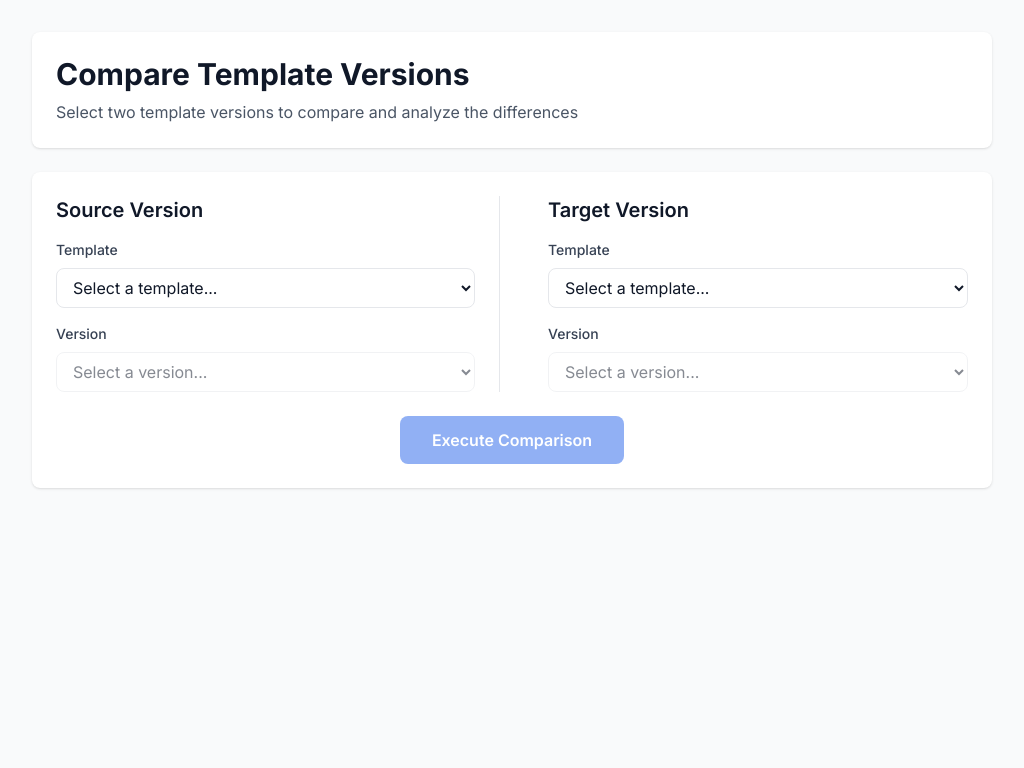
Test: CreateComparisonPage › Comparison Execution › should display error message when comparison fails
The image size is (1024, 768).
Step 1. Select "Template A" in the dropdown named "Select source template" → (266, 288), box [56,268,475,308]
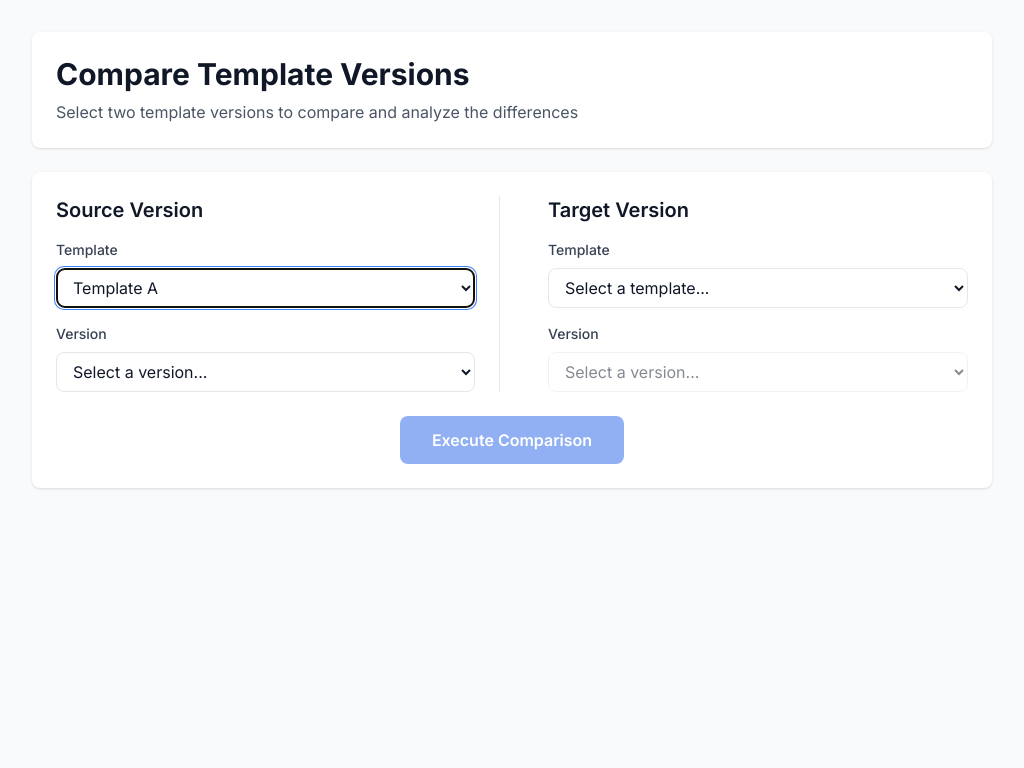
Step 2. Select "Template A" in the dropdown named "Select target template" → (758, 288), box [548,268,968,308]
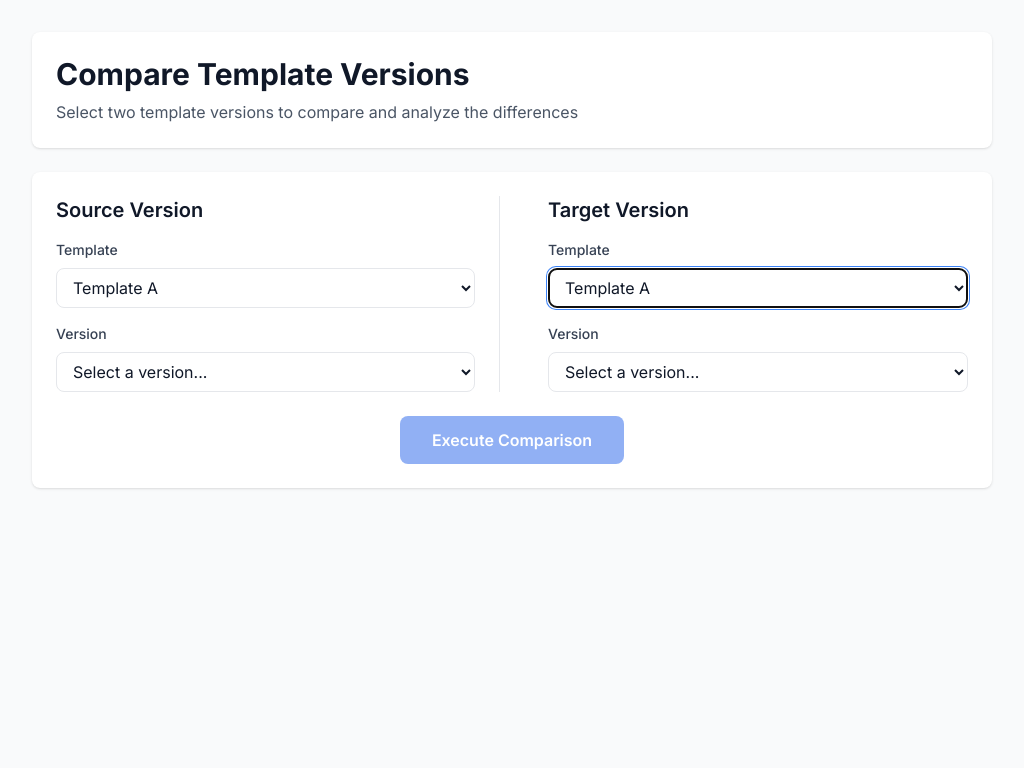
Expected: the dropdown named "Select source version" is enabled
Step 3. Select "2024-Q1 (Current)" in the dropdown named "Select source version" → (266, 372), box [56,352,475,392]
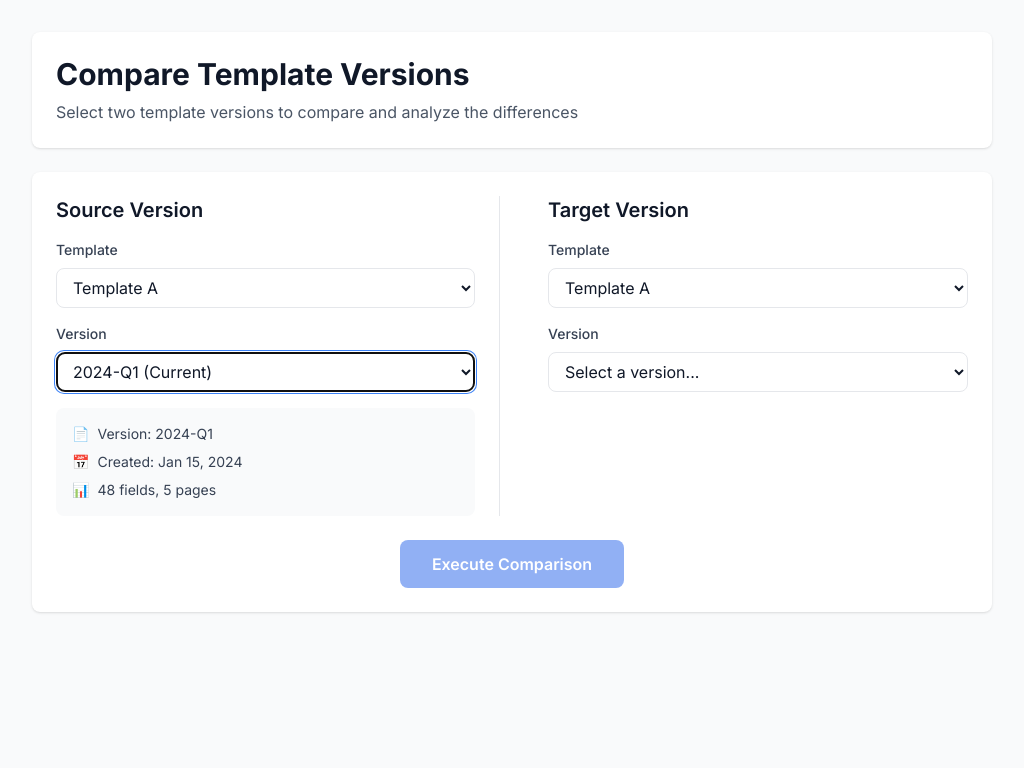
Step 4. Select "2024-Q2" in the dropdown named "Select target version" → (758, 372), box [548,352,968,392]
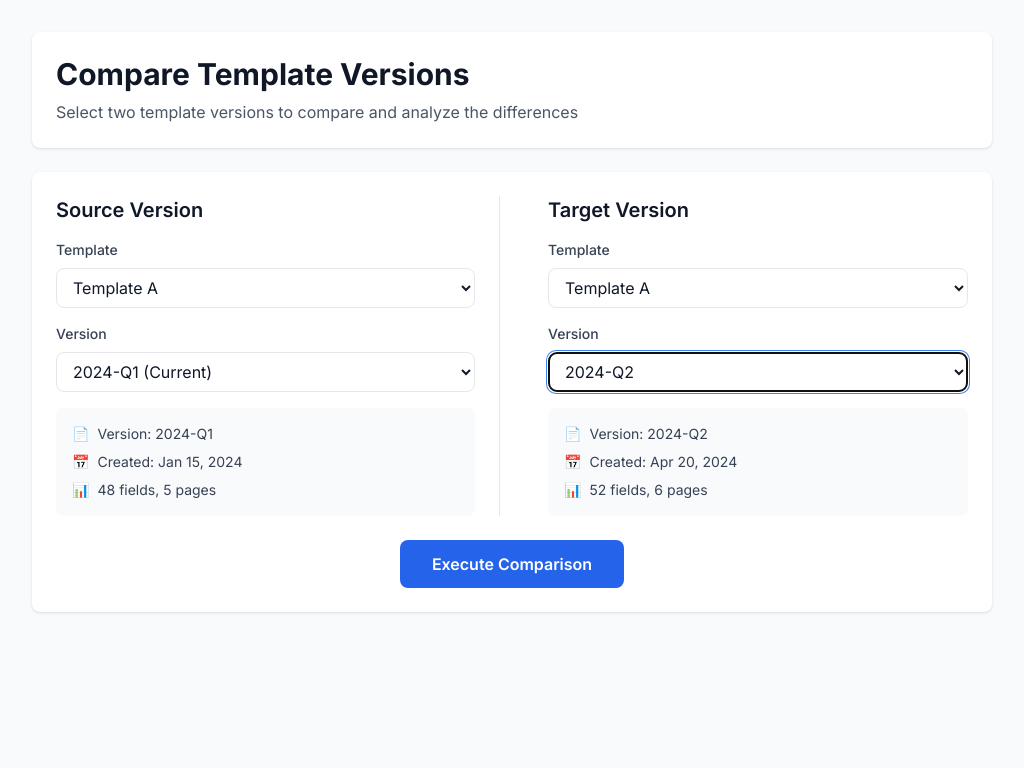
// Execute comparison
Step 5. Click the button labelled "Execute Comparison" → (512, 564), box [400,540,624,588]
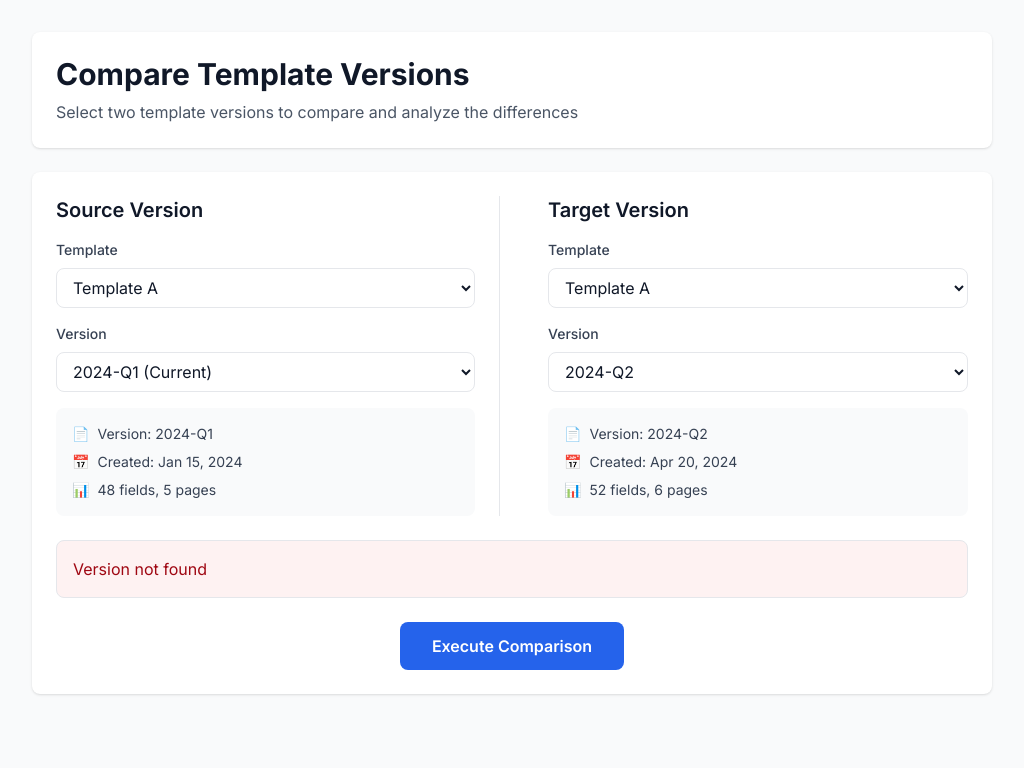
Expected: the button labelled "Execute Comparison" is enabled, [400,622,624,670]
Expected: the text "Version not found" is shown, [73,559,207,579]
